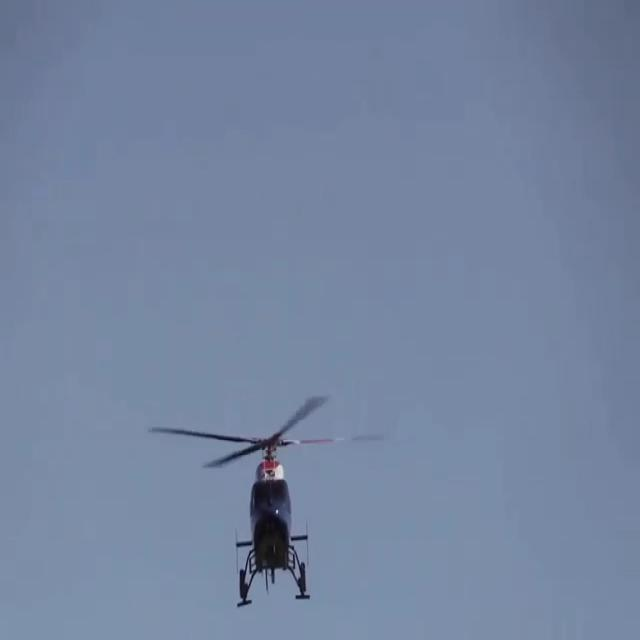Helicopter: (147, 401, 396, 614)
